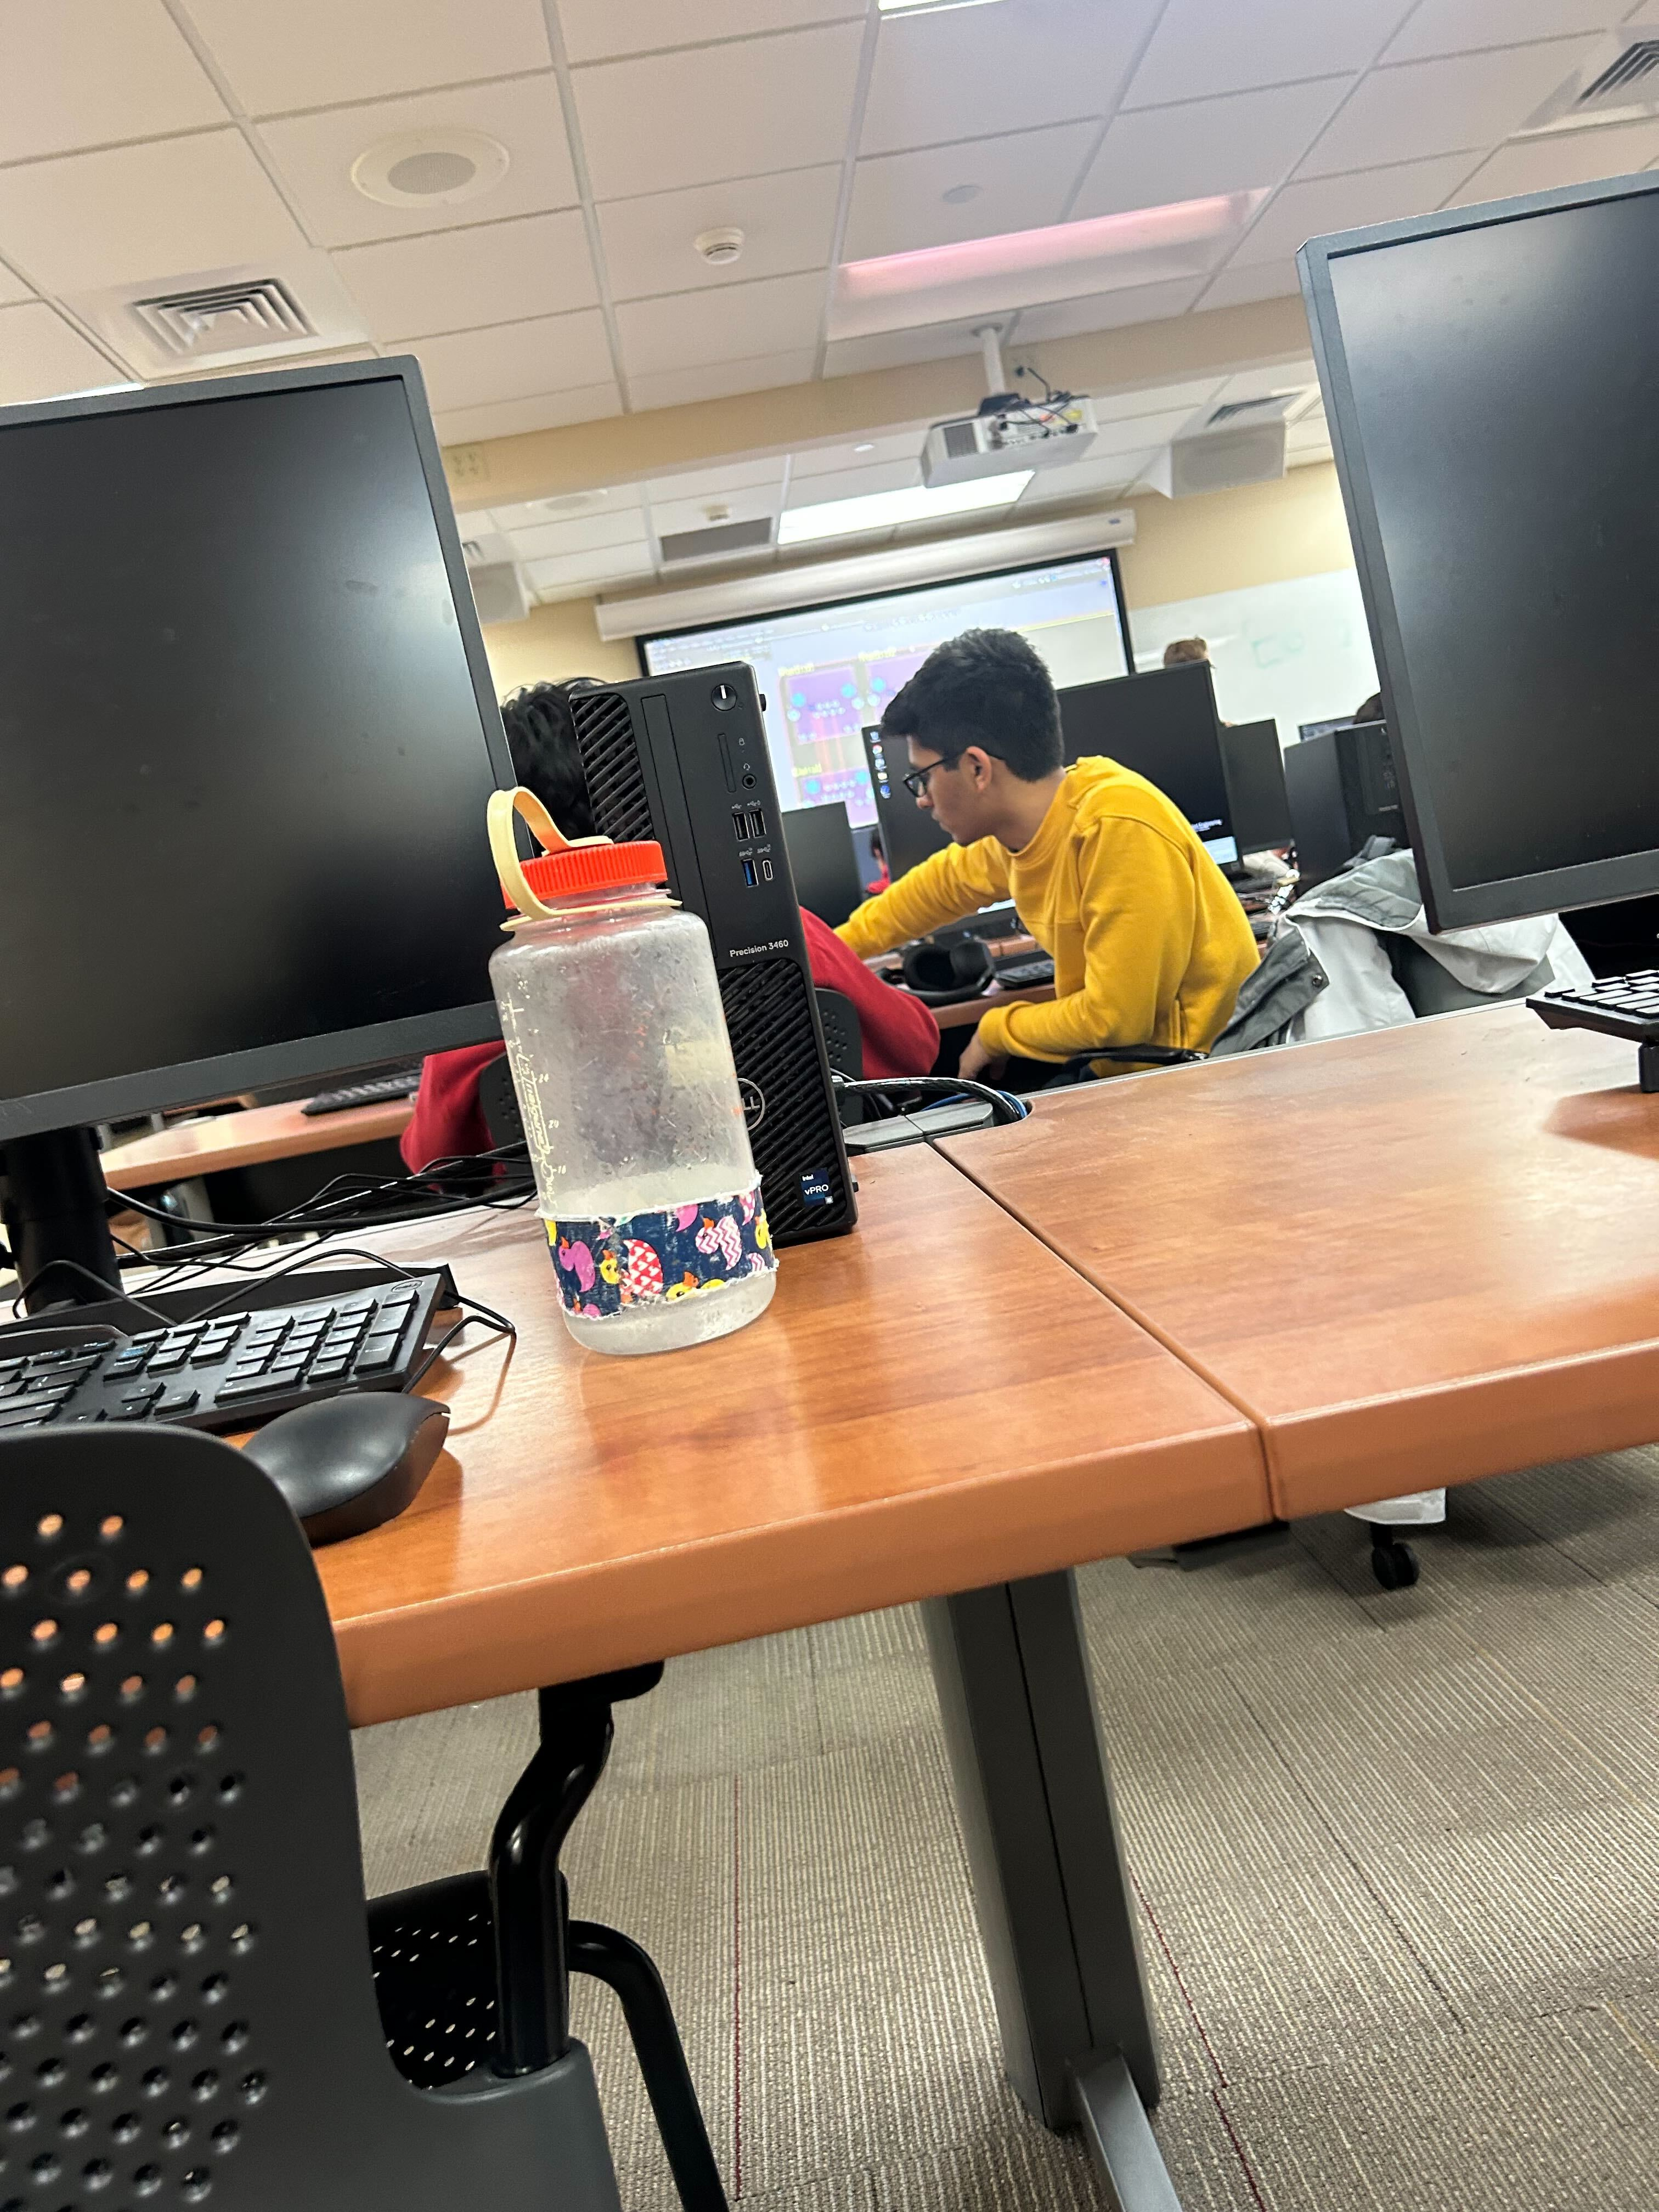bottle: (481, 772, 782, 1362)
